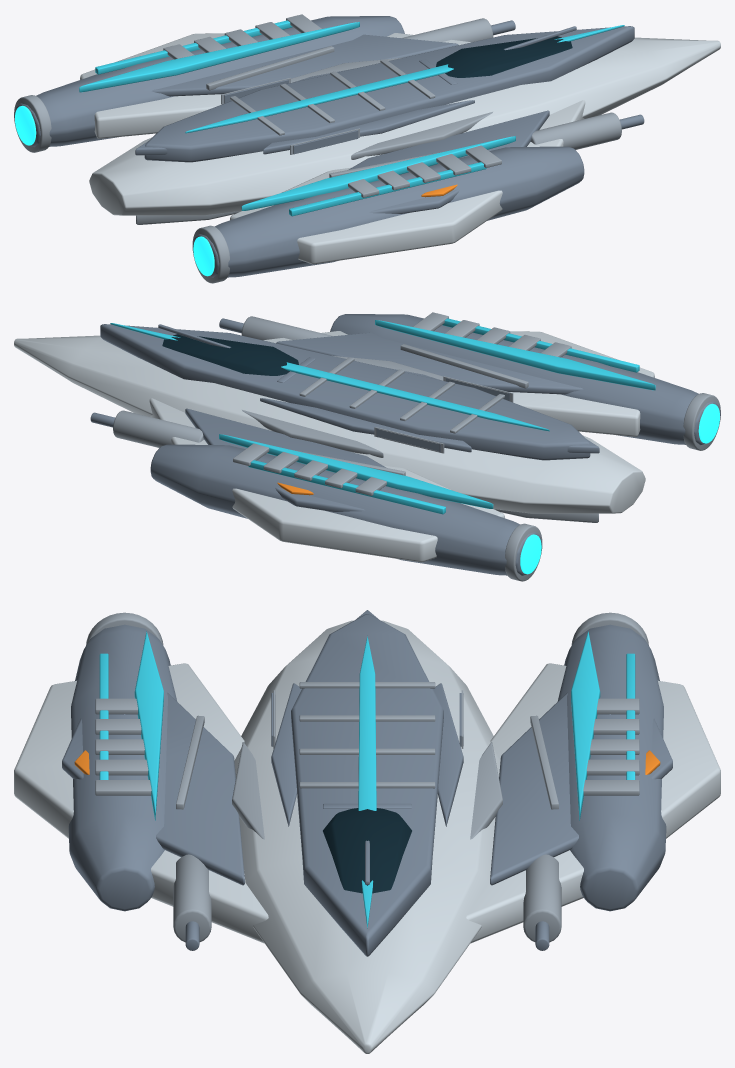
The model's file is wasp_production_v1_lod1.glb.
3 renders of one model, top to bottom at view 1: azimuth 30°, elevation 25°; view 2: azimuth 150°, elevation 25°; view 3: azimuth 270°, elevation 25°, orthographic. The views are drawn at different scales.
Visible parts, largest first — view 1: LOD1_Armor, LOD1_Hull, LOD1_Mechanical, LOD1_Accent, LOD1_Canopy, LOD1_Thruster; view 2: LOD1_Armor, LOD1_Hull, LOD1_Mechanical, LOD1_Accent, LOD1_Canopy, LOD1_Thruster; view 3: LOD1_Armor, LOD1_Hull, LOD1_Mechanical, LOD1_Accent, LOD1_Canopy.
Part boxes in pixels (<box>): LOD1_Armor: <box>14,16,644,277</box>; LOD1_Hull: <box>80,33,720,264</box>; LOD1_Mechanical: <box>14,14,621,283</box>; LOD1_Accent: <box>79,20,624,216</box>; LOD1_Canopy: <box>436,36,572,77</box>; LOD1_Thruster: <box>15,105,214,276</box>; LOD1_Armor: <box>90,314,720,575</box>; LOD1_Hull: <box>14,331,654,562</box>; LOD1_Mechanical: <box>113,312,720,581</box>; LOD1_Accent: <box>110,318,655,514</box>; LOD1_Canopy: <box>162,334,298,375</box>; LOD1_Thruster: <box>520,403,719,574</box>; LOD1_Armor: <box>62,610,672,956</box>; LOD1_Hull: <box>14,620,720,1053</box>; LOD1_Mechanical: <box>86,612,648,942</box>; LOD1_Accent: <box>99,631,635,928</box>; LOD1_Canopy: <box>323,808,411,893</box>.
Size of what is drawn, in the model's own units: 22 by 3.17 by 16.16.
